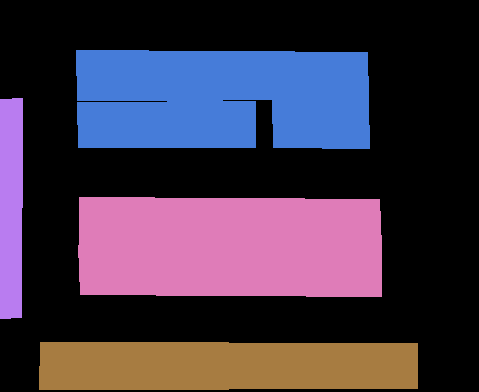parkingspot: (39, 342, 417, 389), (78, 245, 381, 296), (79, 197, 381, 246), (76, 50, 368, 100), (77, 101, 255, 147), (0, 98, 22, 318), (272, 99, 369, 148)
